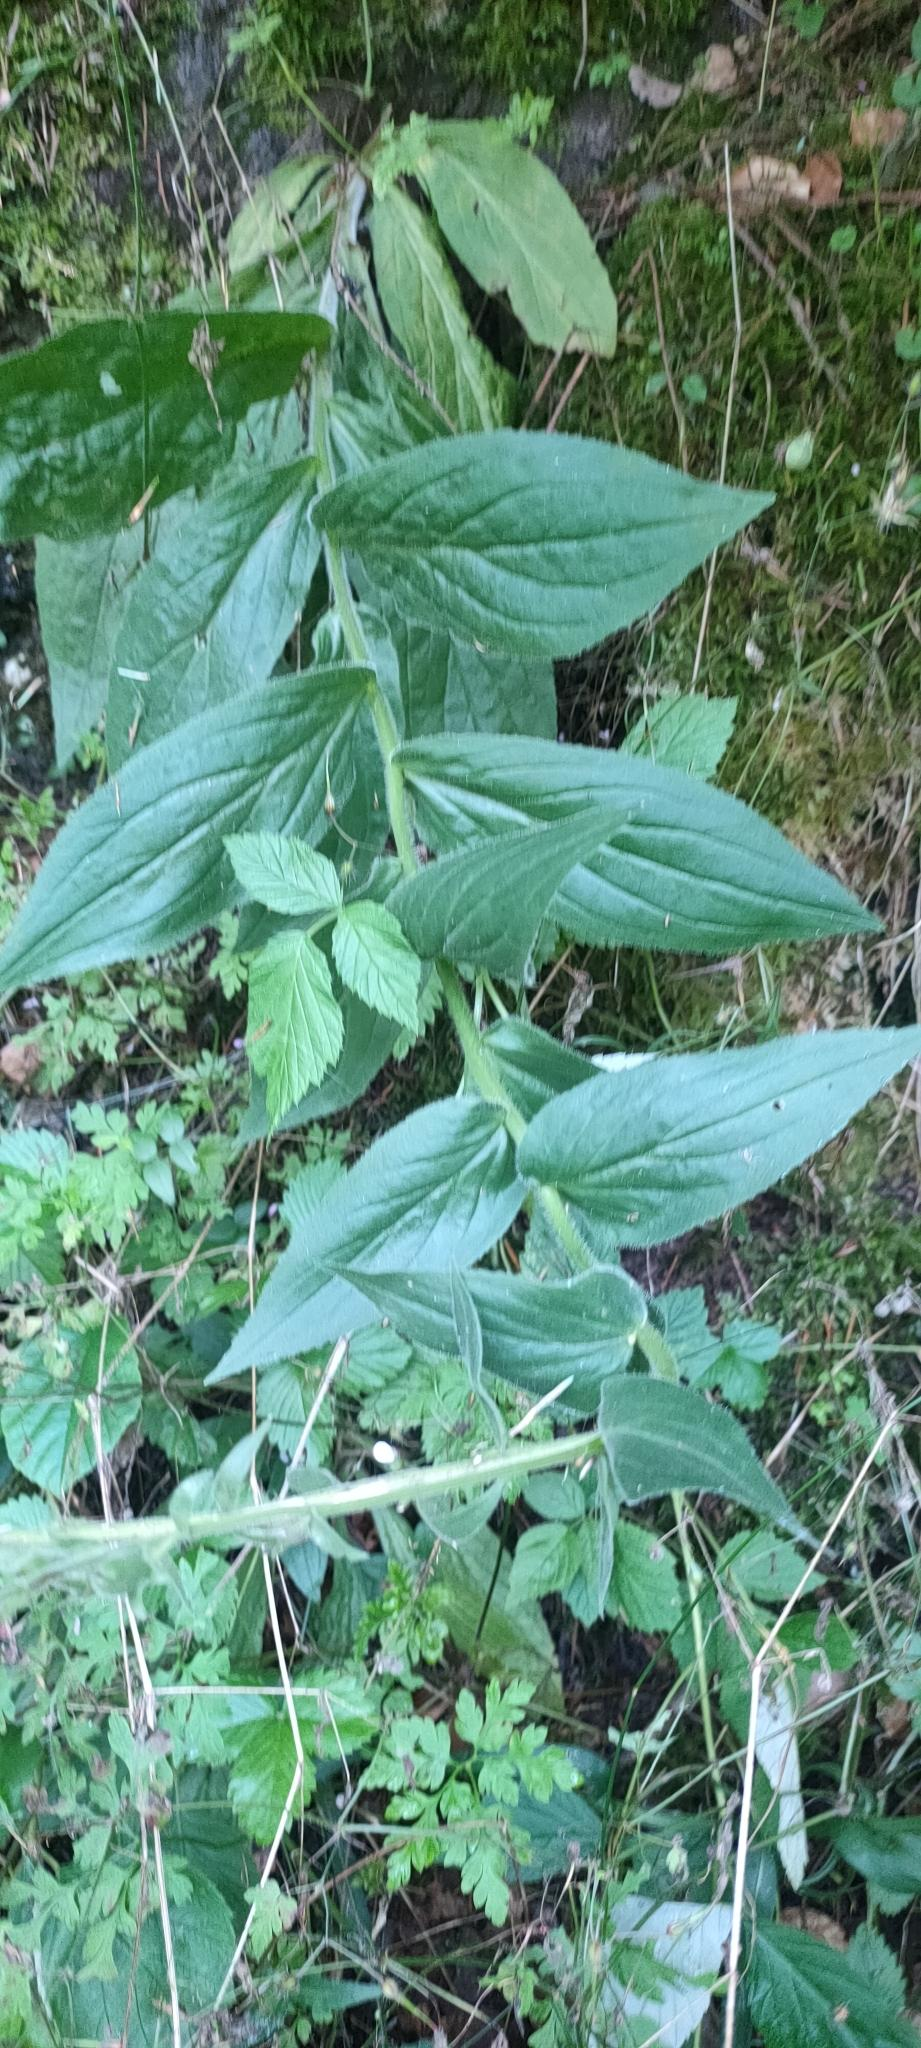Digitalis L: (71, 132, 836, 1528)
